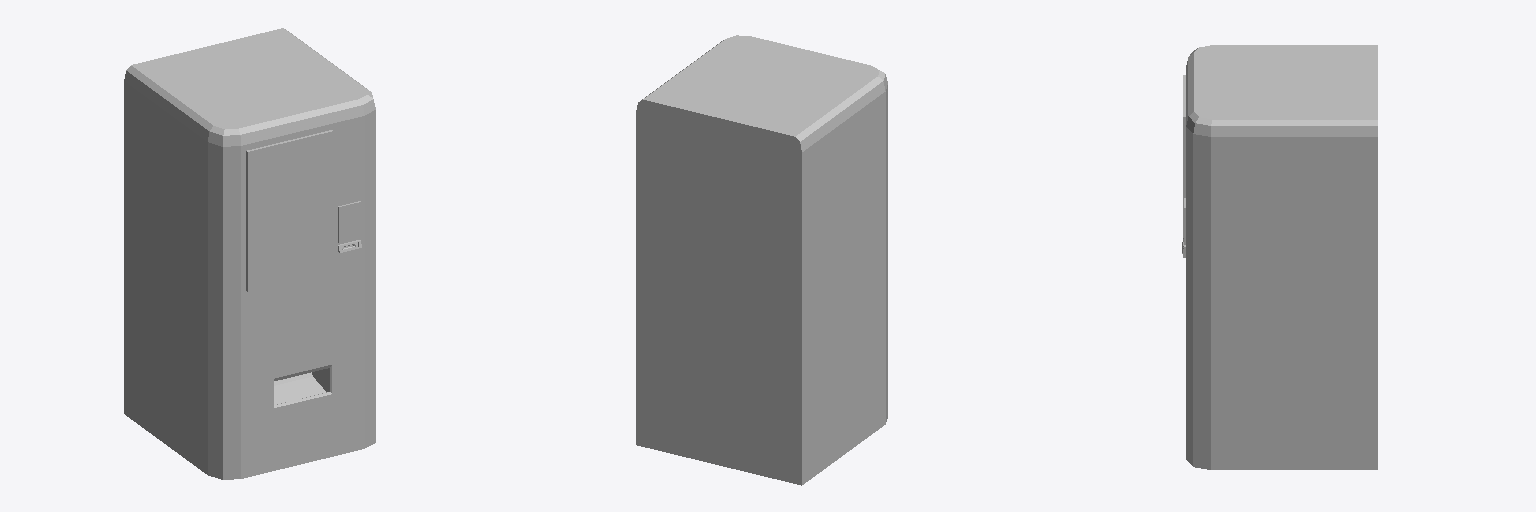
File: cola machine.obj
3 views of the same model, side by side, from view 1: azimuth 30°, elevation 25°; view 2: azimuth 150°, elevation 25°; view 3: azimuth 270°, elevation 25° (orthographic).
Visible parts, largest first — view 1: Cola_machine_Cube; view 2: Cola_machine_Cube; view 3: Cola_machine_Cube.
Part boxes in pixels (x1,y1,x2,y2): Cola_machine_Cube: (124,28,375,479); Cola_machine_Cube: (636,35,887,485); Cola_machine_Cube: (1182,45,1377,469).
Bounding box in the file's own units: 1 × 2 × 1.02.